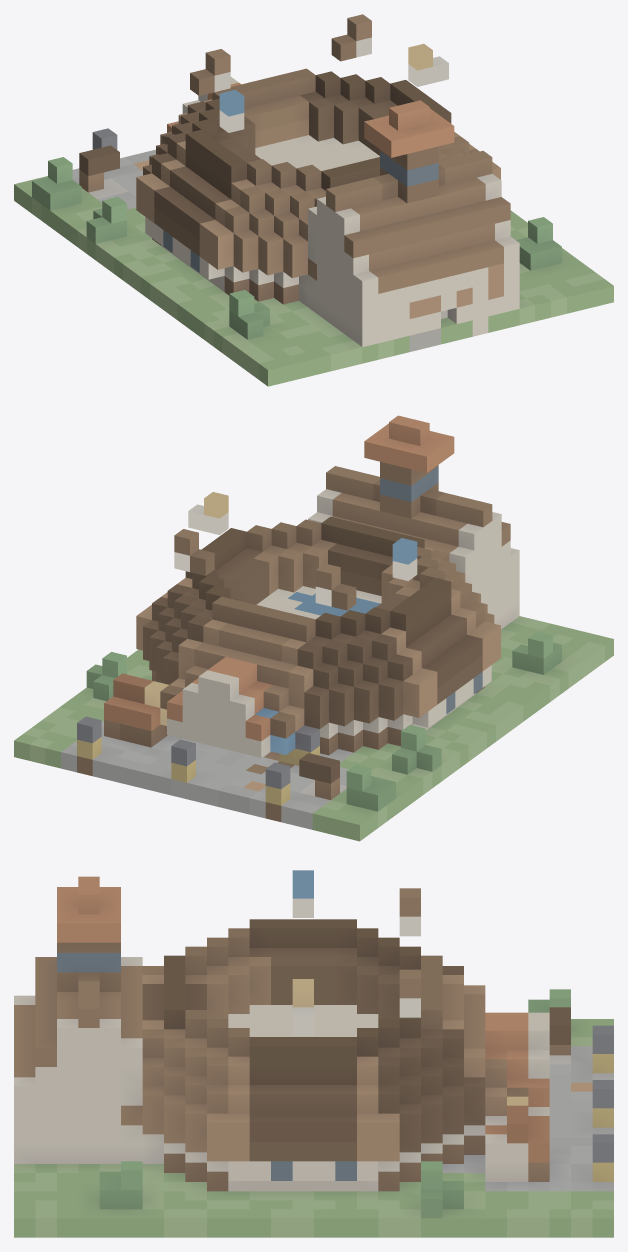
The model's file is playhouse.lite.glb.
The picture shows the model from 3 angles, top to bottom: view 1: azimuth 30°, elevation 25°; view 2: azimuth 150°, elevation 25°; view 3: azimuth 270°, elevation 25°; orthographic projection. The views are drawn at different scales.
Parts seen in each view (by area): view 1: playhouse; view 2: playhouse; view 3: playhouse.
Part boxes in pixels (left/top/right/bottom): playhouse: left=14, top=14, right=613, bottom=386; playhouse: left=14, top=415, right=613, bottom=841; playhouse: left=14, top=870, right=613, bottom=1237.
Size of the model in its own units: 11 by 6.5 by 14.
